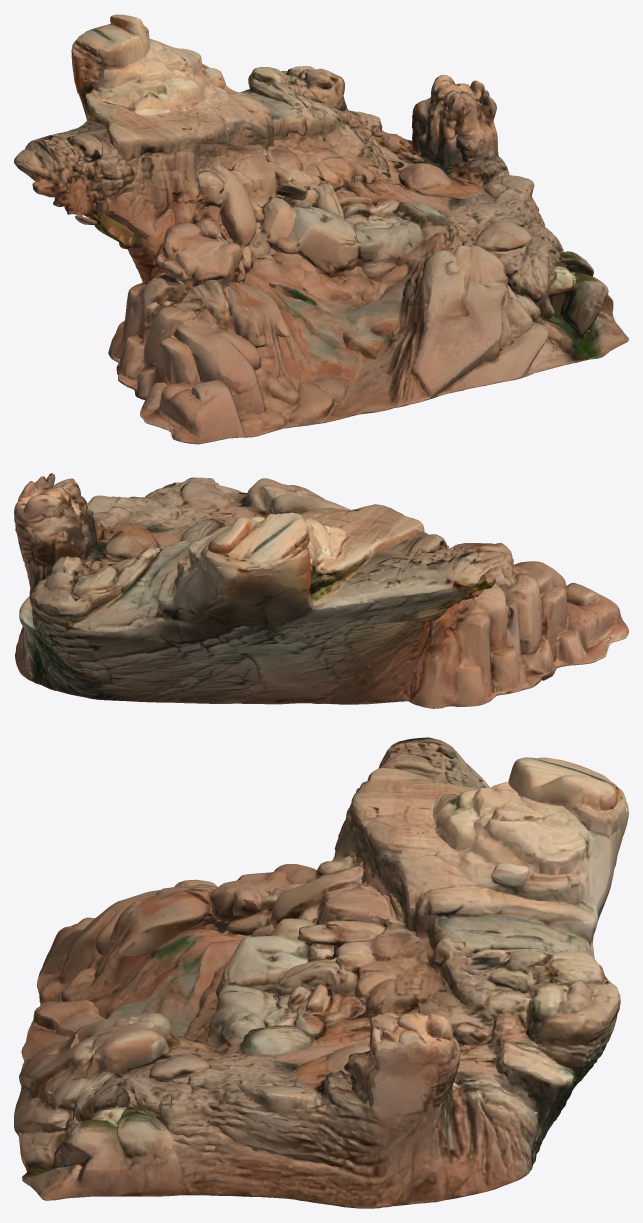
Rendered from wet-boulder.glb.
3 renders of one model, top to bottom at view 1: azimuth 30°, elevation 25°; view 2: azimuth 150°, elevation 25°; view 3: azimuth 270°, elevation 25°, orthographic. The views are drawn at different scales.
Visible parts, largest first — view 1: geometry_0; view 2: geometry_0; view 3: geometry_0.
Part boxes in pixels (x1,y1,x2,y2): geometry_0: (14,14,628,444); geometry_0: (14,473,628,708); geometry_0: (14,737,628,1208).
Bounding box in the file's own units: 1.2 × 0.5809 × 1.18.
Materials: 1 (1 with a texture image).
